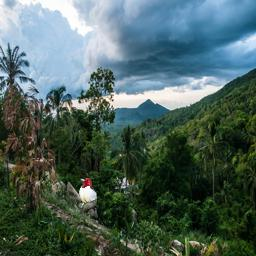Woodpecker: (78, 178, 98, 218)
